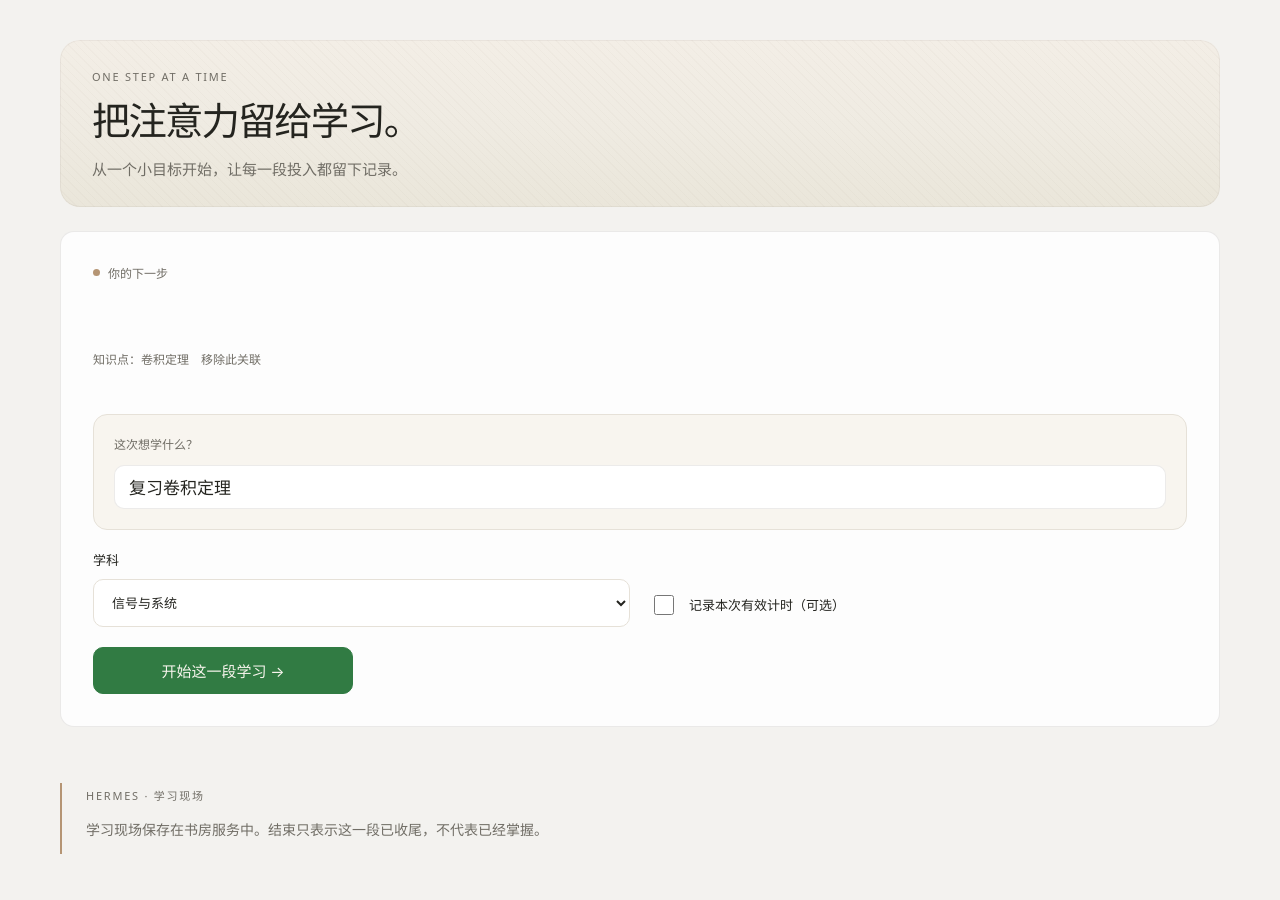
Test case: learning scene › persists the selected knowledge point and subject in the actual start request
This screenshot has width=1280, height=900.
Click the button "开始这一段学习 →" at (223, 670), box [93,647,353,694]
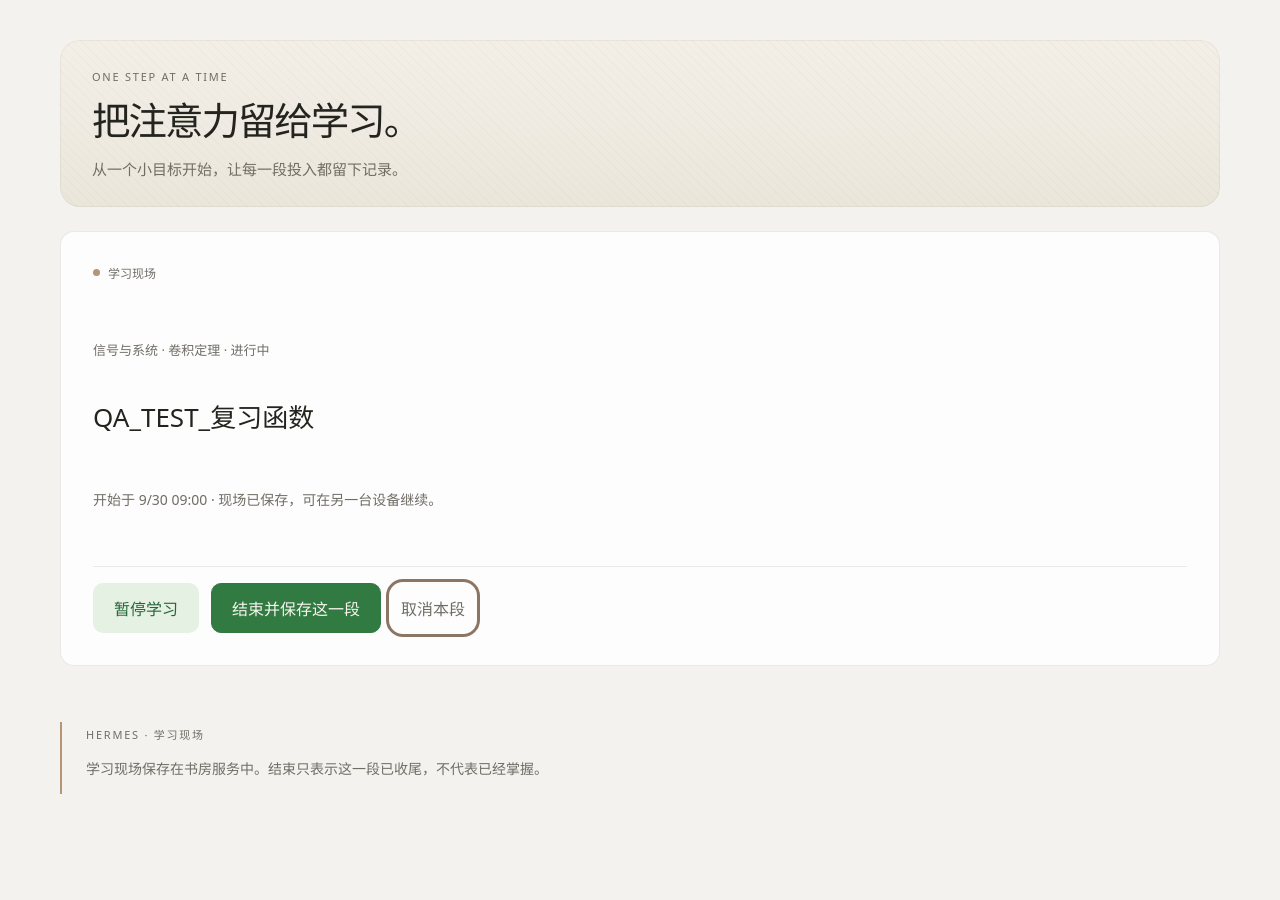
Now the button "暂停学习" is shown, box [93,583,199,633]
